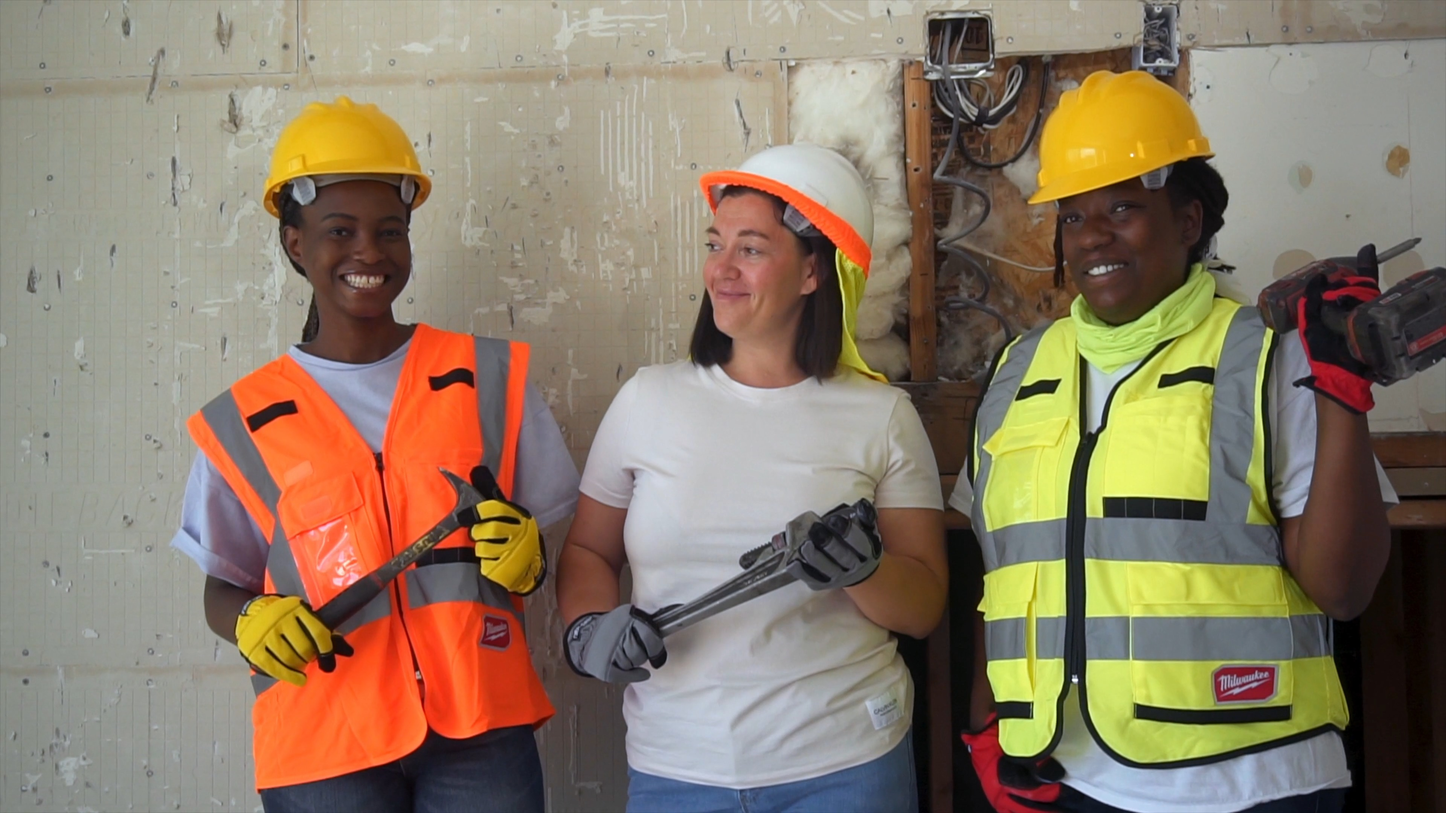gloves: (418, 407, 549, 614), (1282, 272, 1412, 409), (230, 583, 370, 695), (567, 594, 692, 703), (949, 726, 1098, 810), (796, 508, 899, 599)
